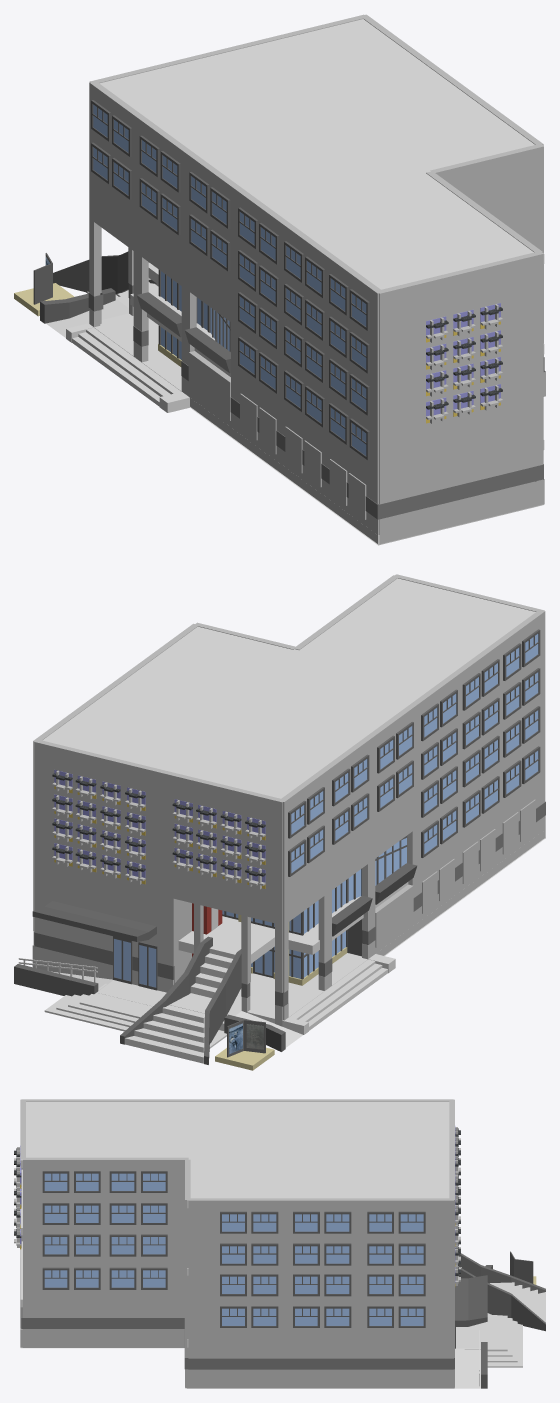
File: library.fbx
3 renders of one model, top to bottom at view 1: azimuth 30°, elevation 25°; view 2: azimuth 150°, elevation 25°; view 3: azimuth 270°, elevation 25°, orthographic. The views are drawn at different scales.
Parts seen in each view (by area): view 1: Cube.146, Cube.043, Cube.031, Cube.051, Cube.035, Cube.033, Cube.045, Cube.036, Cube.056, Cube.047, Cube.028, Cube.121 (+33 smaller); view 2: Cube.146, Cube.028, Cube.043, Cube.051, Cube.045, Cube.063, Cube.044, Cube.055, Cube.115, Cube.121, Cube.030, Cube.029 (+16 smaller); view 3: Cube.146, Cube.037, Cube.040, Cube.143, Cube.129, Cube.127, Cube.038, Cube.039, Cube.041, Cube.051, Cube.055, Cube.042 (+9 smaller).
Part boxes in pixels (x1=…): Cube.146: x1=99, y1=19, x2=544, y2=289; Cube.043: x1=89, y1=81, x2=380, y2=504; Cube.031: x1=376, y1=251, x2=543, y2=504; Cube.051: x1=46, y1=287, x2=544, y2=545; Cube.035: x1=430, y1=143, x2=543, y2=356; Cube.033: x1=378, y1=479, x2=544, y2=543; Cube.045: x1=89, y1=308, x2=383, y2=543; Cube.036: x1=379, y1=465, x2=543, y2=519; Cube.056: x1=188, y1=351, x2=230, y2=420; Cube.047: x1=53, y1=251, x2=148, y2=293; Cube.028: x1=90, y1=14, x2=366, y2=293; Cube.121: x1=161, y1=271, x2=229, y2=359; Cube.146: x1=42, y1=578, x2=535, y2=798; Cube.028: x1=34, y1=739, x2=284, y2=992; Cube.043: x1=281, y1=610, x2=545, y2=992; Cube.051: x1=51, y1=838, x2=545, y2=1047; Cube.045: x1=283, y1=816, x2=545, y2=1020; Cube.063: x1=178, y1=882, x2=408, y2=963; Cube.044: x1=124, y1=1005, x2=204, y2=1063; Cube.055: x1=44, y1=983, x2=226, y2=1048; Cube.115: x1=32, y1=901, x2=156, y2=941; Cube.121: x1=304, y1=838, x2=406, y2=977; Cube.030: x1=34, y1=946, x2=285, y2=1026; Cube.029: x1=34, y1=932, x2=288, y2=1006; Cube.146: x1=20, y1=1102, x2=449, y2=1208; Cube.037: x1=188, y1=1198, x2=453, y2=1358; Cube.040: x1=23, y1=1157, x2=188, y2=1317; Cube.143: x1=42, y1=1171, x2=167, y2=1289; Cube.129: x1=220, y1=1211, x2=425, y2=1265; Cube.127: x1=220, y1=1274, x2=425, y2=1327; Cube.038: x1=185, y1=1369, x2=454, y2=1388; Cube.039: x1=188, y1=1358, x2=453, y2=1369; Cube.041: x1=22, y1=1329, x2=184, y2=1347; Cube.051: x1=21, y1=1323, x2=483, y2=1388; Cube.055: x1=464, y1=1313, x2=522, y2=1367; Cube.042: x1=21, y1=1317, x2=184, y2=1328.
Bounding box in the file's own units: 3875 × 3073 × 7856.
